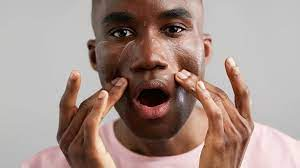face: (98, 8, 215, 142)
